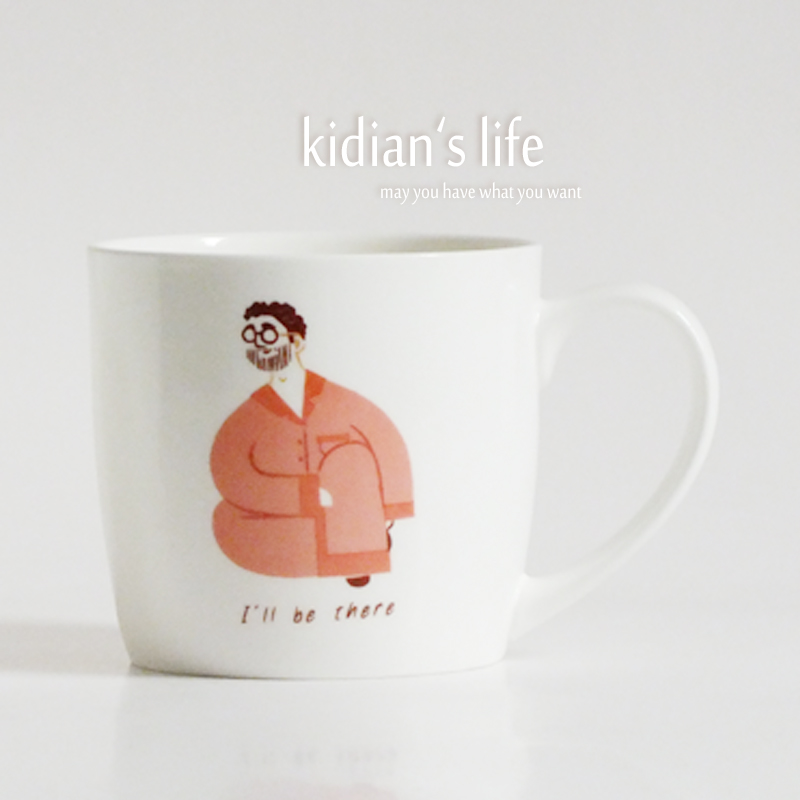cup: (80, 224, 722, 684)
